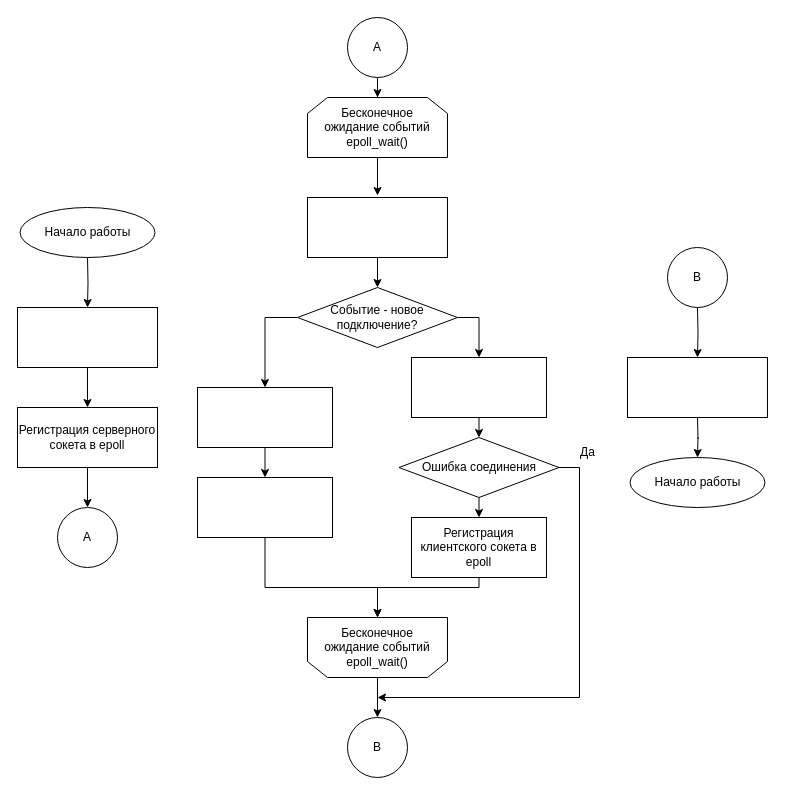
This 785x795 diagram has some shape labels left out. The shapes that lost their labels are listed below. From the top down, each one's centre as x and y in pixels, then its label:
the point at 377,227: Обработка события
the point at 87,337: Инициализация дескриптора epoll
the point at 478,387: Установление соединения accept()
the point at 697,387: Закрытие дескриптора epoll
the point at 264,417: Обработка данных от клиента
the point at 264,507: Отправка ответа клиенту
